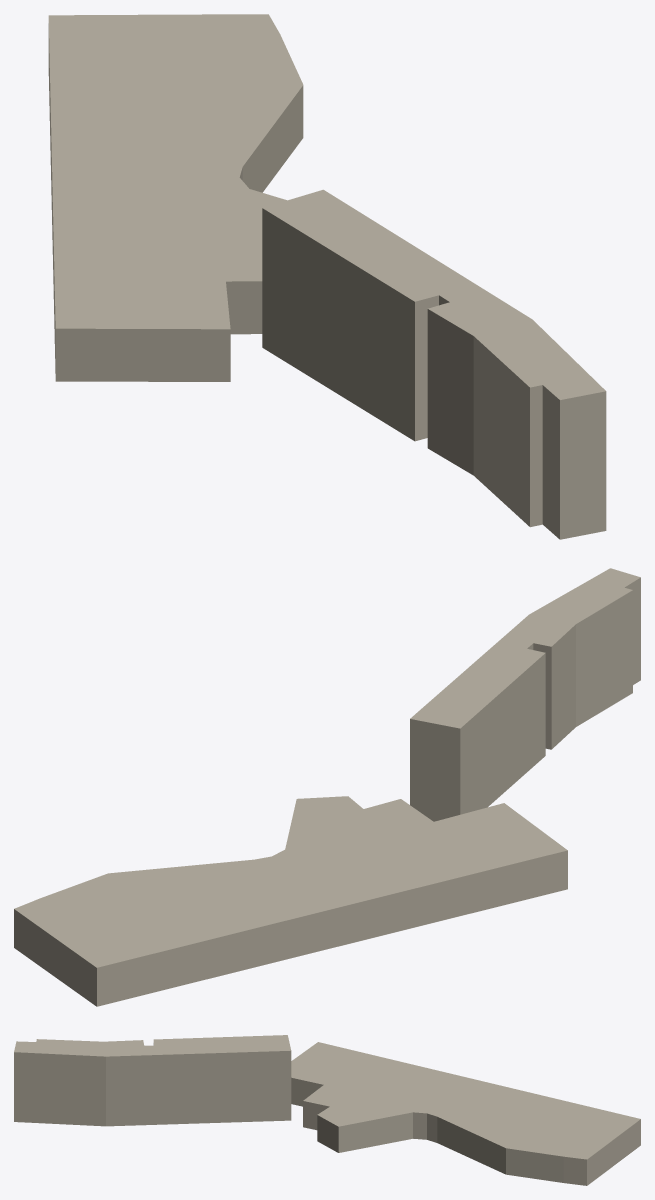
Rendered from senglea_58_30_collision.glb.
3 views of the same model, one above another, from view 1: azimuth 30°, elevation 25°; view 2: azimuth 150°, elevation 25°; view 3: azimuth 270°, elevation 25° (orthographic). The views are drawn at different scales.
Parts seen in each view (by area): view 1: geometry_0; view 2: geometry_0; view 3: geometry_0.
Part boxes in pixels (left/top/right/bottom): geometry_0: left=48, top=14, right=606, bottom=539; geometry_0: left=14, top=568, right=640, bottom=1006; geometry_0: left=14, top=1035, right=640, bottom=1185.
Bounding box in the file's own units: 89.82 × 27.2 × 202.
